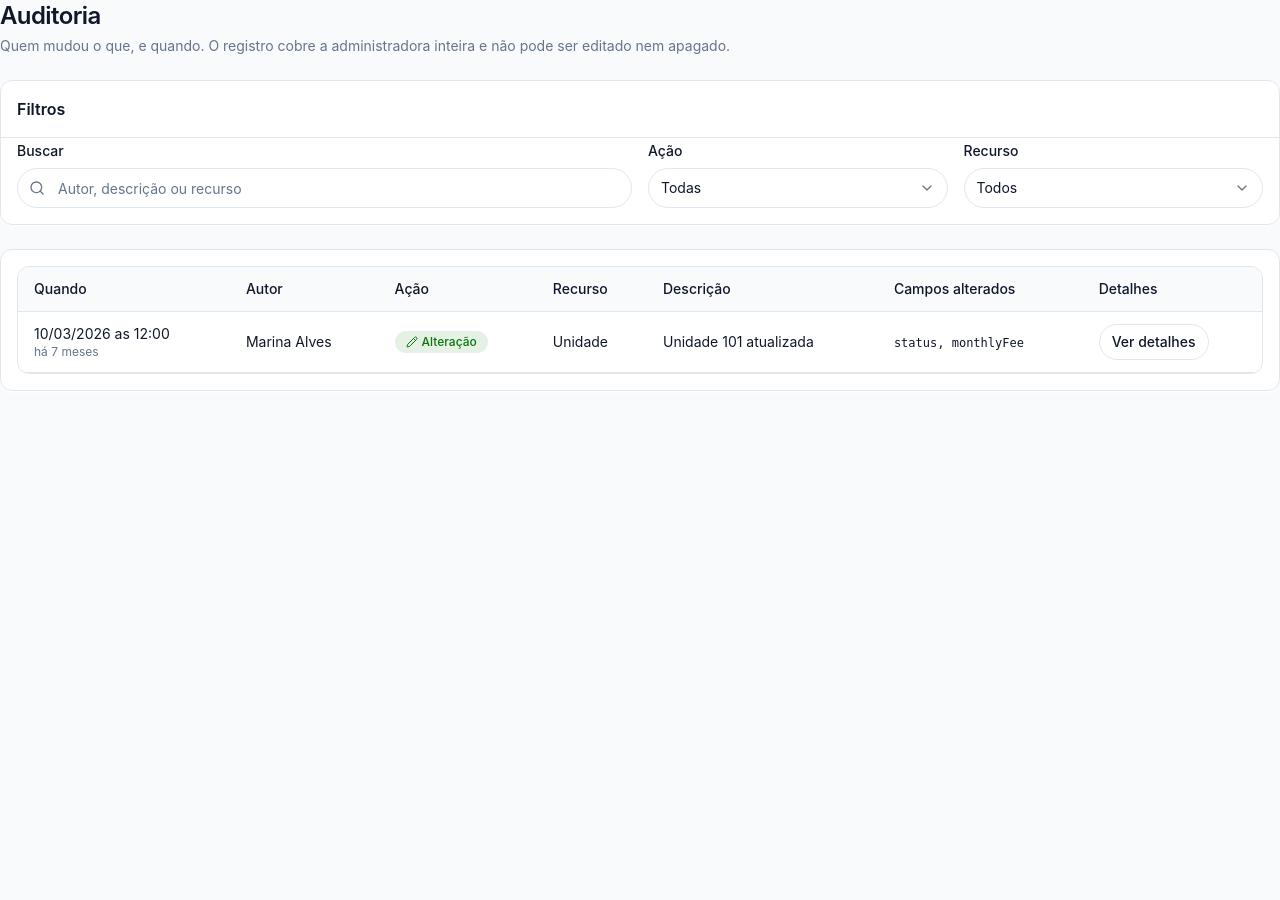
it: Histórico de um registro › os detalhes mostram a diferença entre antes e depois
Step 1. Click the button with aria-label "Ver detalhes de Alteração em Unidade" → (1154, 342), box [1099,324,1208,360]
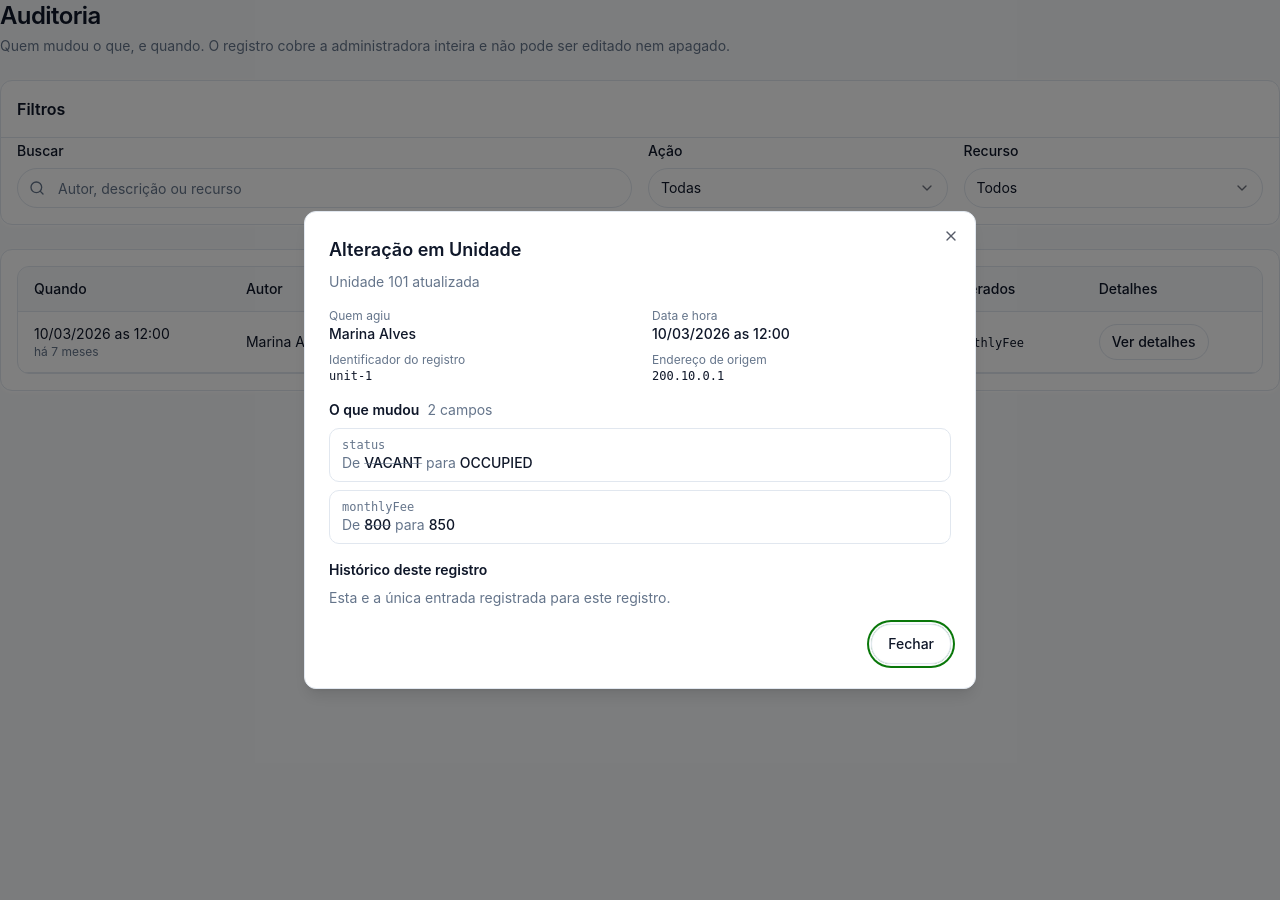
Result: the list item "status De VACANT para OCCUPIED" is shown at [329,428,951,482]
Result: the list item "monthlyFee De 800 para 850" is shown at [329,490,951,544]
